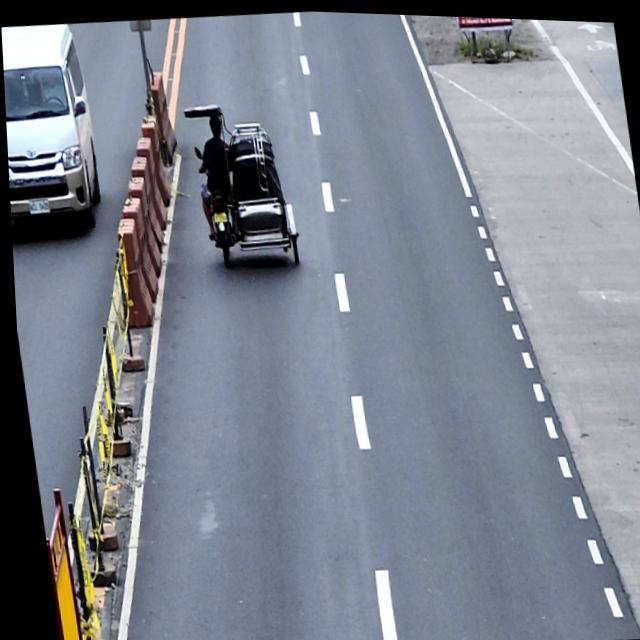Car: (1, 20, 103, 236), (179, 98, 302, 276)
License-Plate: (25, 197, 48, 215), (210, 208, 226, 221)
